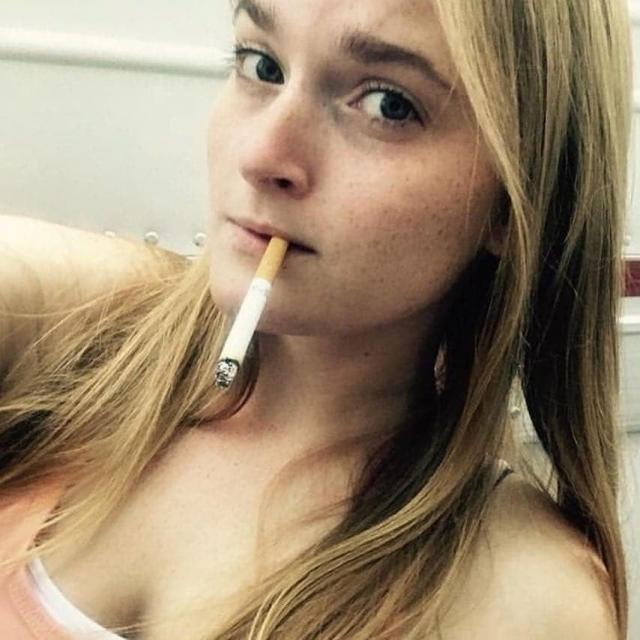cigarette: (215, 232, 292, 394)
